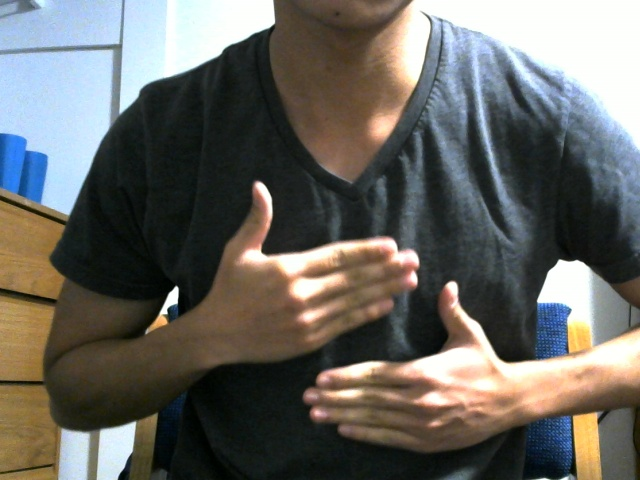Enjoy: (178, 169, 532, 451)
